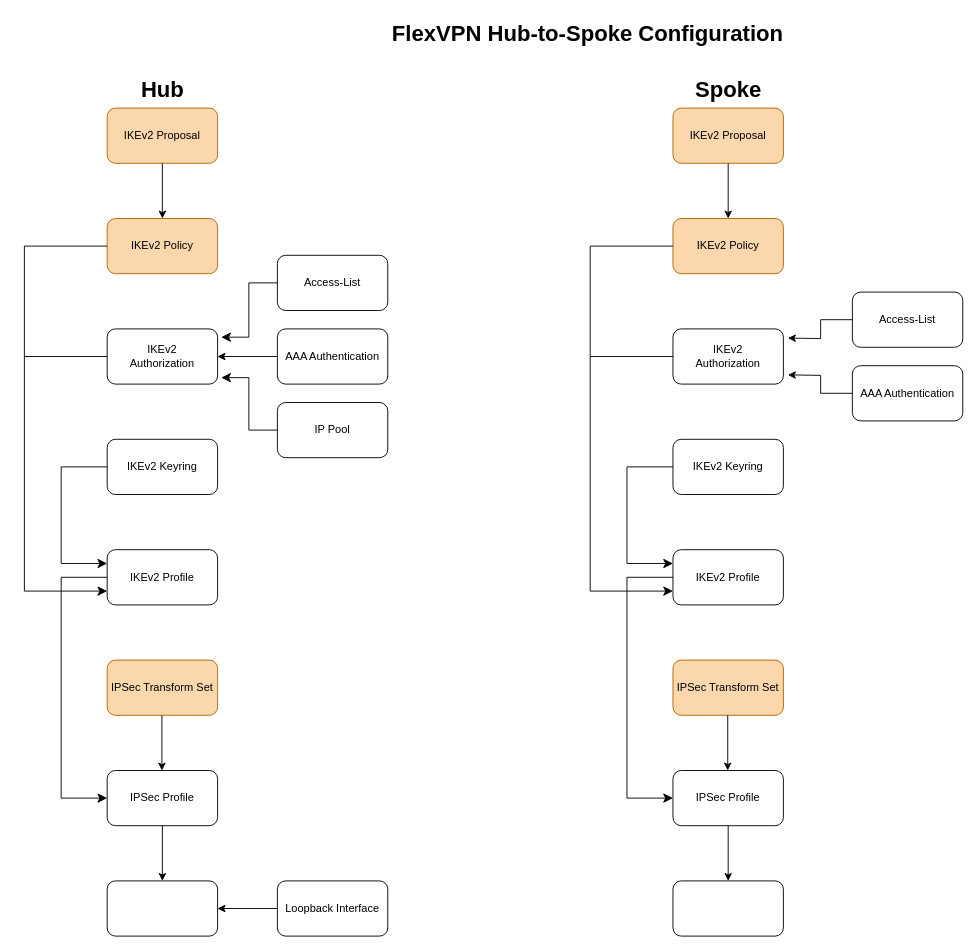
This 979x952 diagram has some shape labels left out. Here are the shapes that lost their labels. From the top down, the box of each, then its label:
(106, 880, 218, 936): Virtual Template Interface
(672, 880, 783, 936): Tunnel Interface
